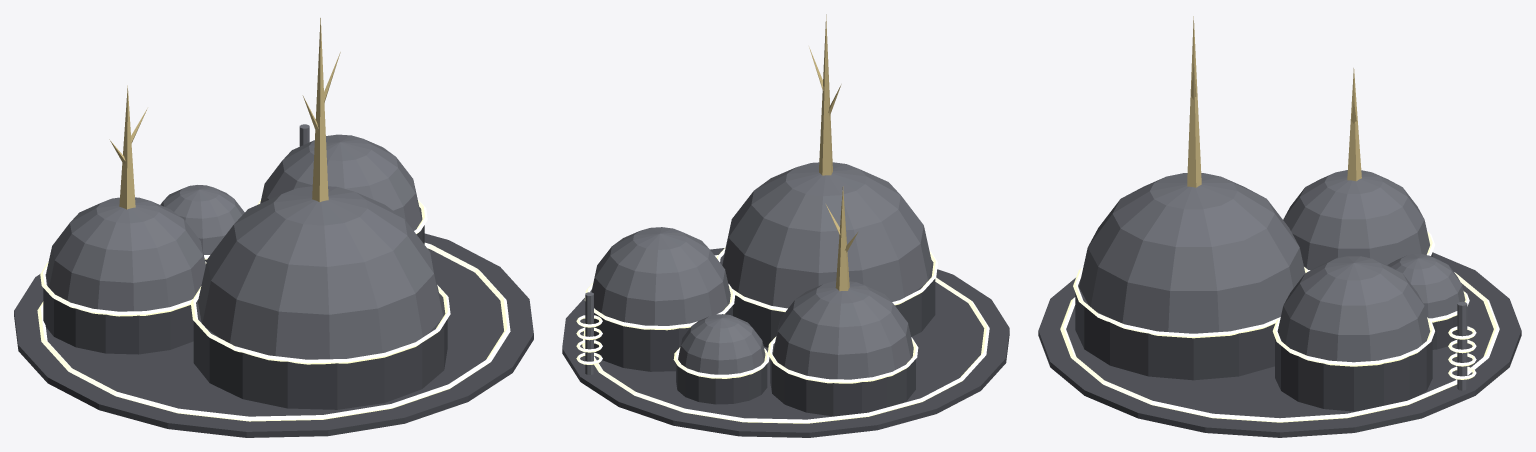
The model's file is zone_low_6_t4.glb.
The picture shows the model from 3 angles, left to right: view 1: azimuth 30°, elevation 25°; view 2: azimuth 150°, elevation 25°; view 3: azimuth 270°, elevation 25°; orthographic projection. The views are drawn at different scales.
Visible parts, largest first — view 1: zone_low_6_t4, detail; view 2: zone_low_6_t4, detail; view 3: zone_low_6_t4, detail.
Boxes of the visible parts, box(x1,y1,x2,y2) form: zone_low_6_t4: box(14, 18, 533, 437); detail: box(37, 52, 510, 421); zone_low_6_t4: box(562, 14, 1009, 437); detail: box(576, 47, 989, 423); zone_low_6_t4: box(1038, 16, 1521, 437); detail: box(1060, 62, 1499, 422).
Size of the model in its own units: 19.6 by 14.41 by 19.6.
